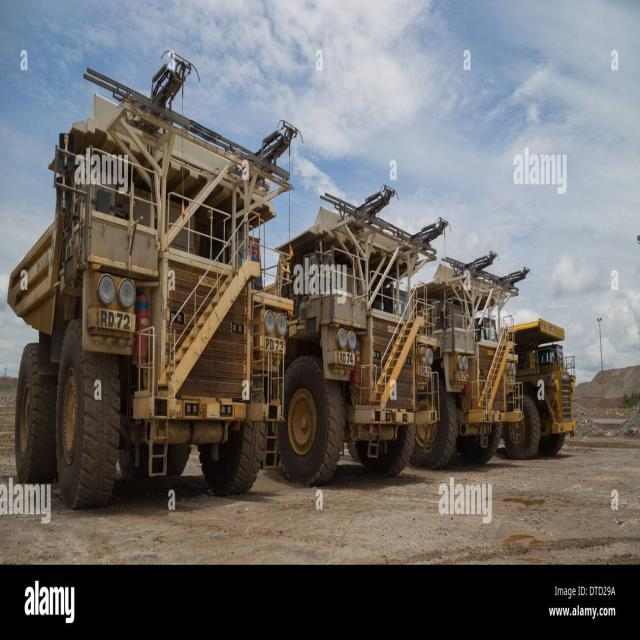dump_truck: (14, 63, 287, 502), (290, 170, 418, 484), (428, 235, 516, 487), (530, 320, 580, 466)
